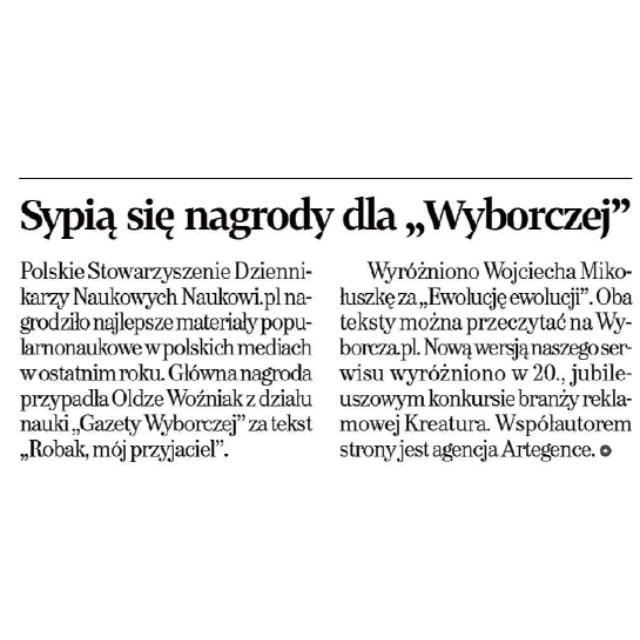body: (324, 249, 638, 465), (14, 251, 320, 465)
title: (13, 184, 633, 246)
